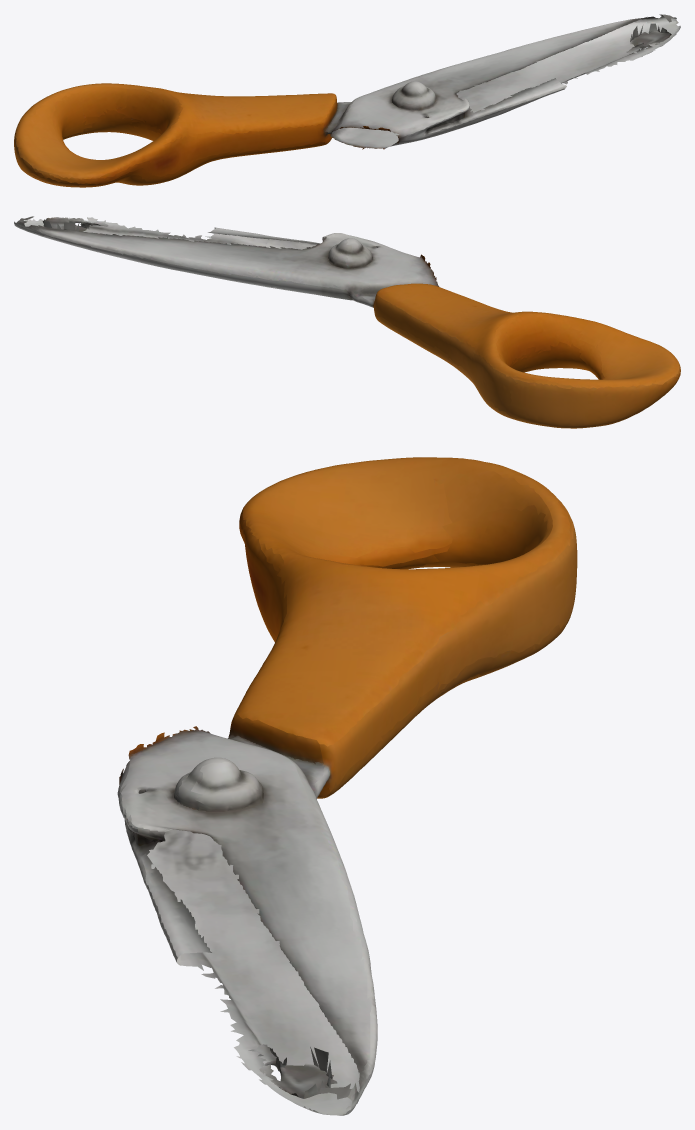
3 renders of one model, top to bottom at view 1: azimuth 30°, elevation 25°; view 2: azimuth 150°, elevation 25°; view 3: azimuth 270°, elevation 25°, orthographic. The views are drawn at different scales.
Visible parts, largest first — view 1: world; view 2: world; view 3: world.
Part boxes in pixels (box(x1,y1,x2,y2)): world: box(14, 14, 680, 187); world: box(14, 216, 680, 428); world: box(117, 457, 577, 1115).
Size of the model in its own units: 0.2096 by 0.0183 by 0.0647.
Materials: 1 (1 with a texture image).
